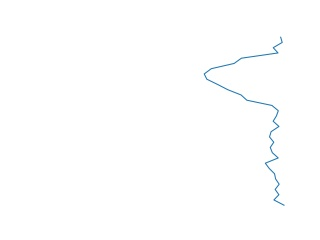distalBar: (197, 37, 289, 207)
